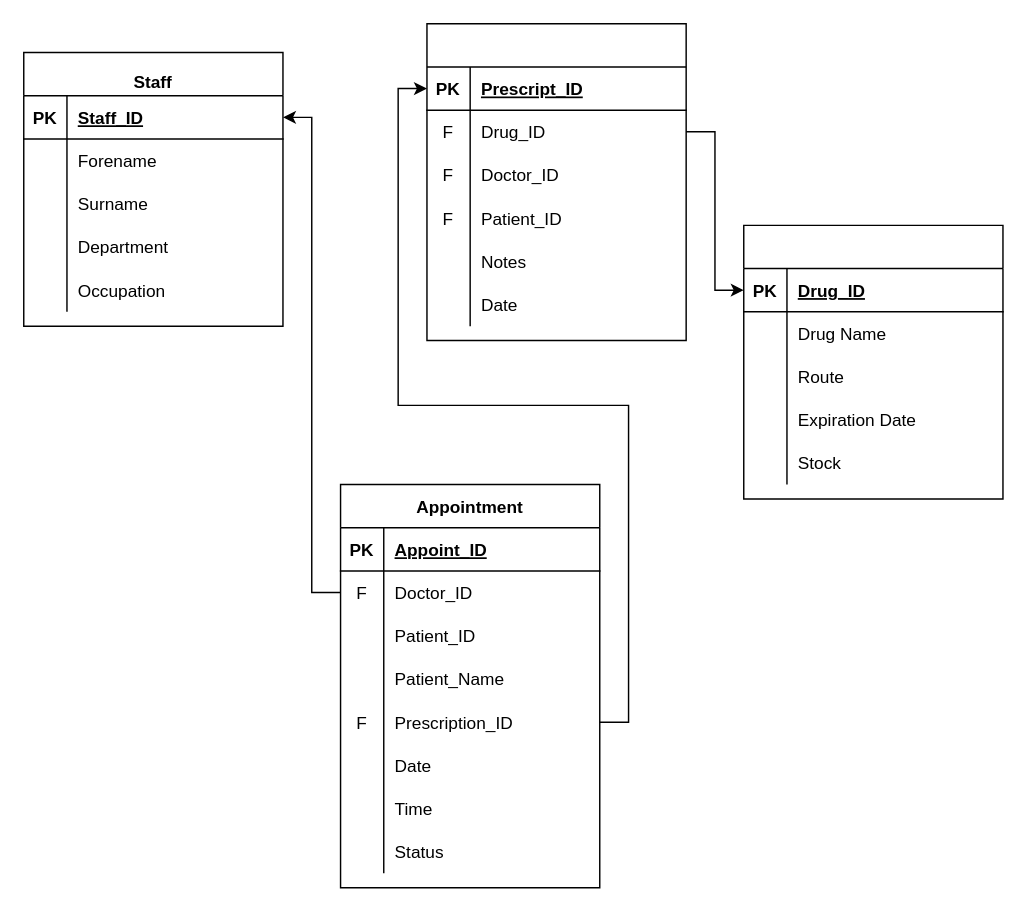
The diagram is 1027 pixels wide and 912 high, and some of its shapes have lost their labels. Each missing label, with the box of its shape:
Drug Inventory: (742, 224, 1003, 499)
Prescription: (426, 22, 686, 341)
